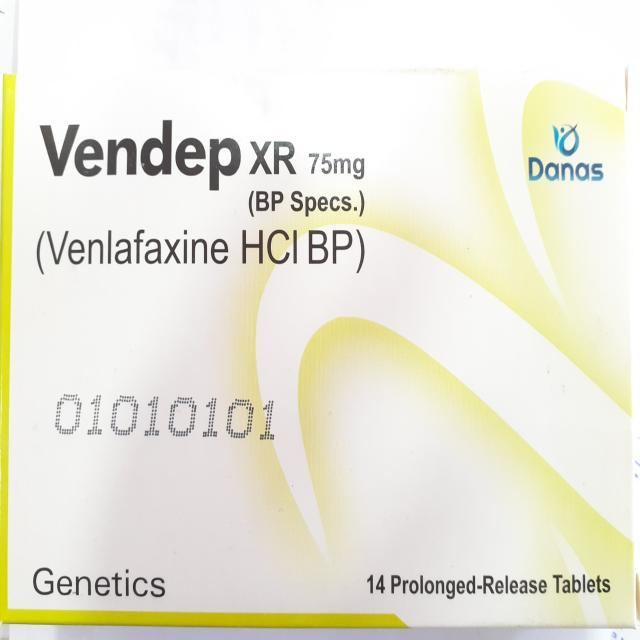drug-name: (37, 118, 301, 191)
